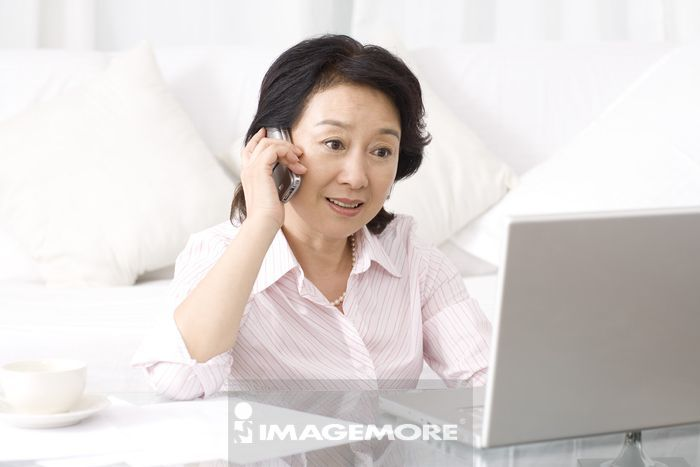phone: (262, 119, 302, 203)
talk: (240, 108, 401, 259)
